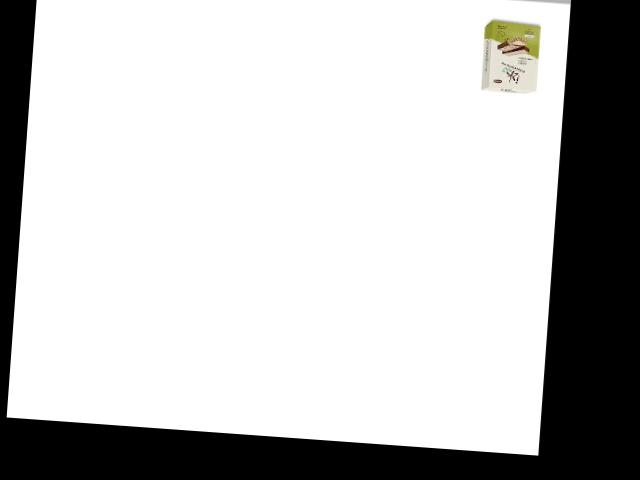chocolate: (476, 15, 547, 96)
